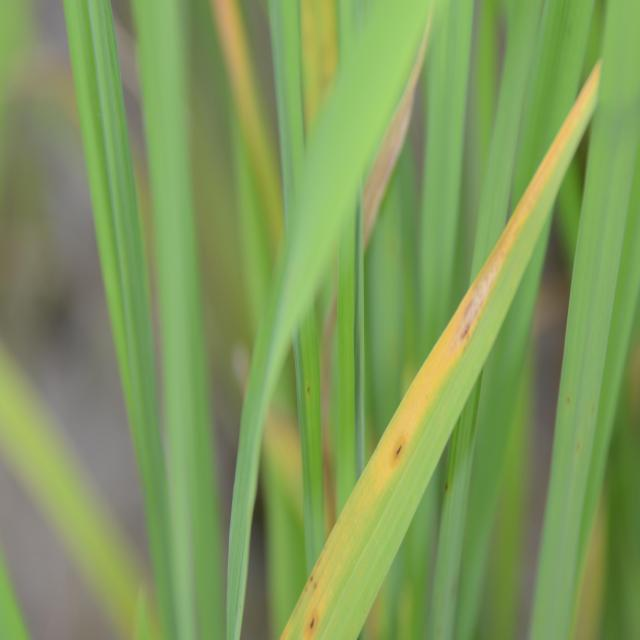Rice Tungro: (281, 80, 588, 640)
